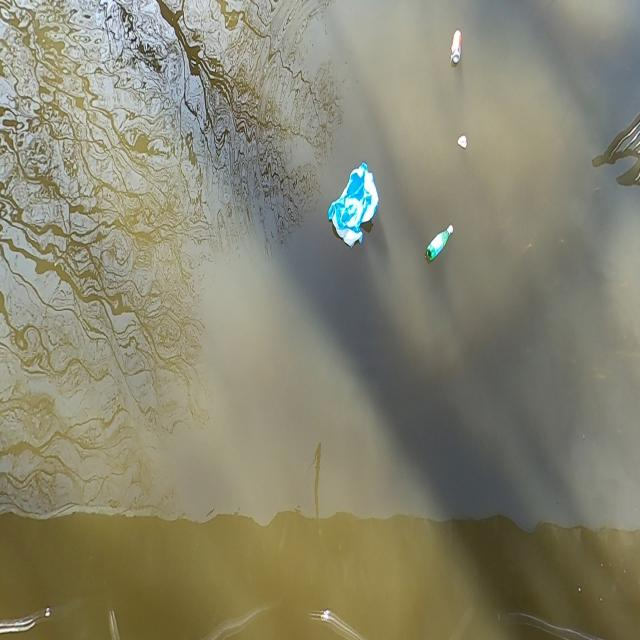Autre plastique: (325, 162, 383, 256)
Bouteille plastique: (424, 223, 454, 266)
Non plastique: (449, 24, 464, 67)
